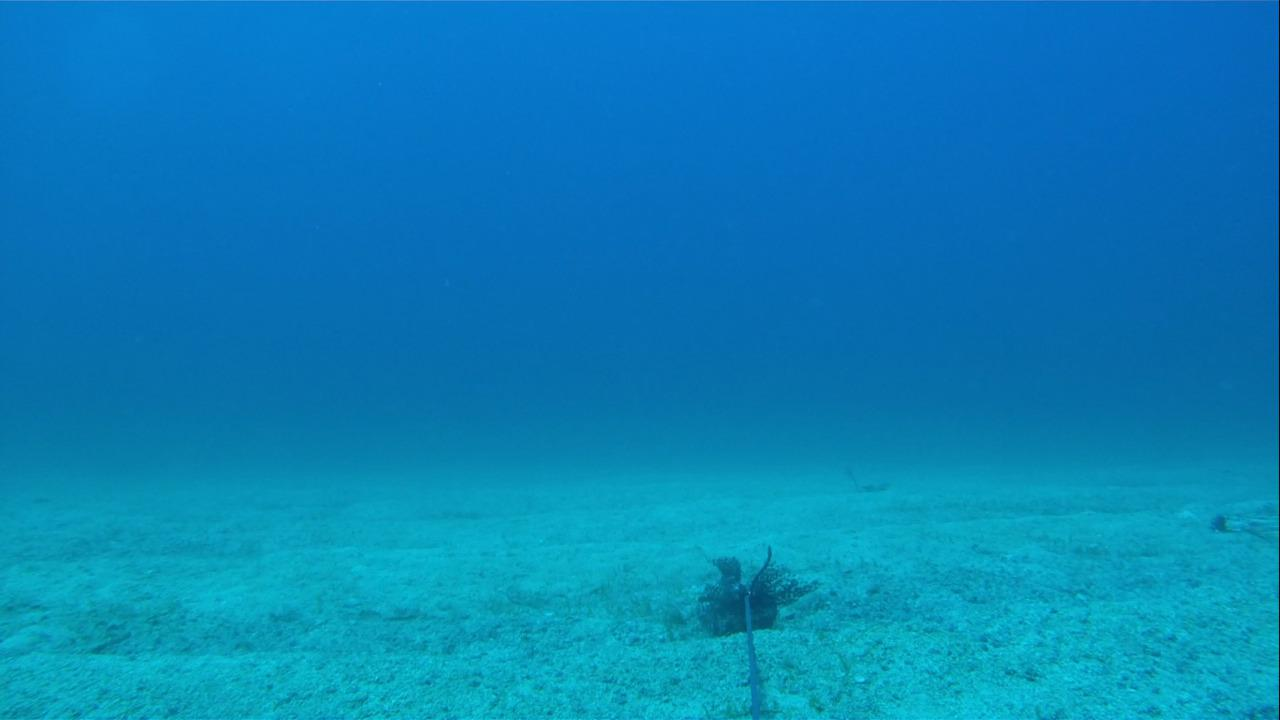dactylopterus: (1197, 502, 1279, 554)
